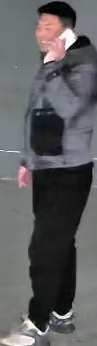phone: (32, 1, 95, 126)
